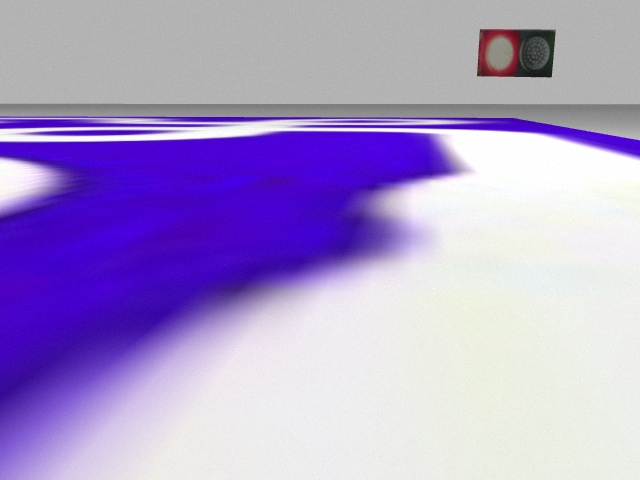red: (477, 29, 519, 77)
